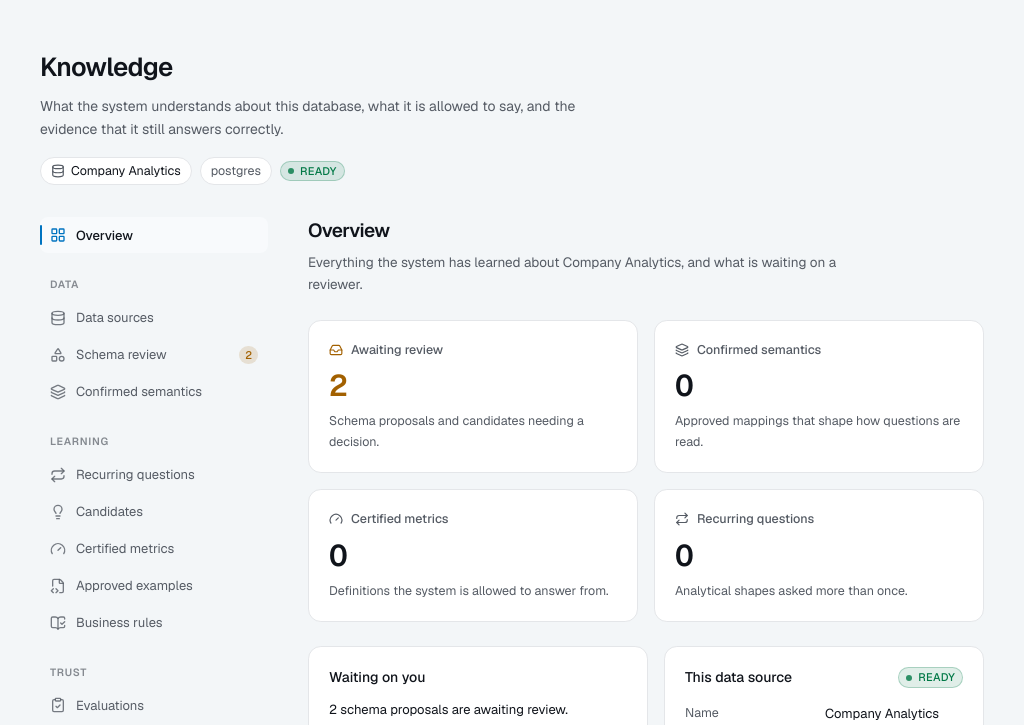
Scenario: Schema review › offers no way to approve everything at once
The image size is (1024, 725).
Click the tab "Schema review 2" at {"x": 154, "y": 355}, box [40,337,268,373]
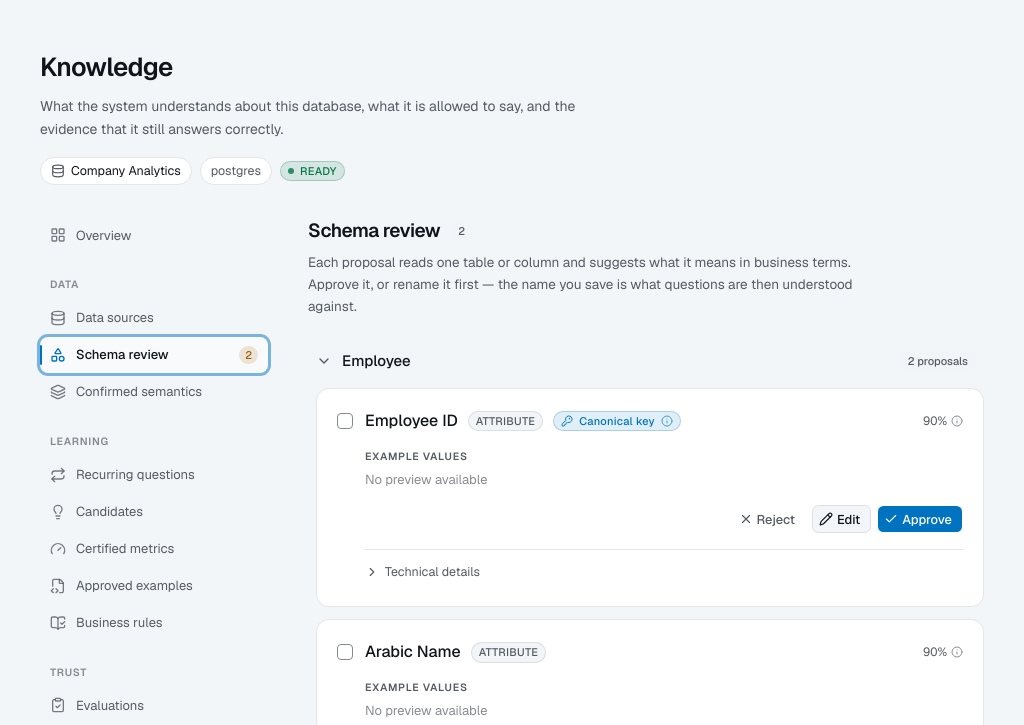
Now the heading "Arabic Name" is shown, box [365,640,461,664]
